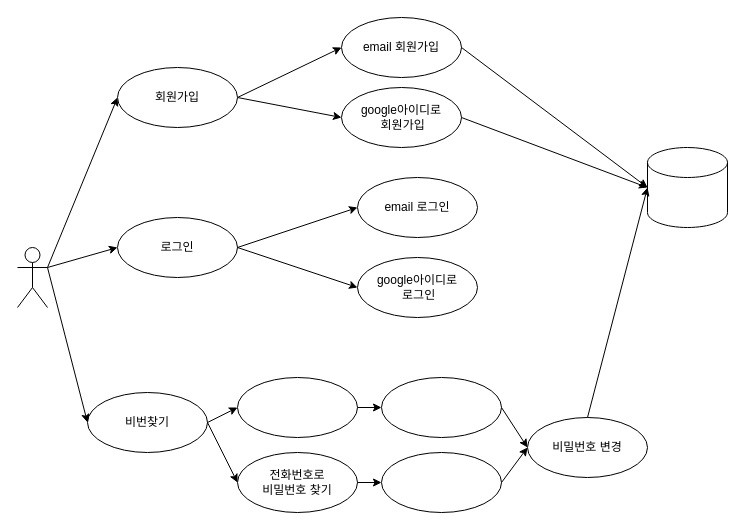
Image size: 745x530. Some labels were removed from this diagram. Each missing label, with the centre of its shape:
"Actor" belongs at (32,277).
"email로 비밀번호 찾기" belongs at (297,407).
"email발송" belongs at (441,407).
"전화번호인증" belongs at (441,482).
